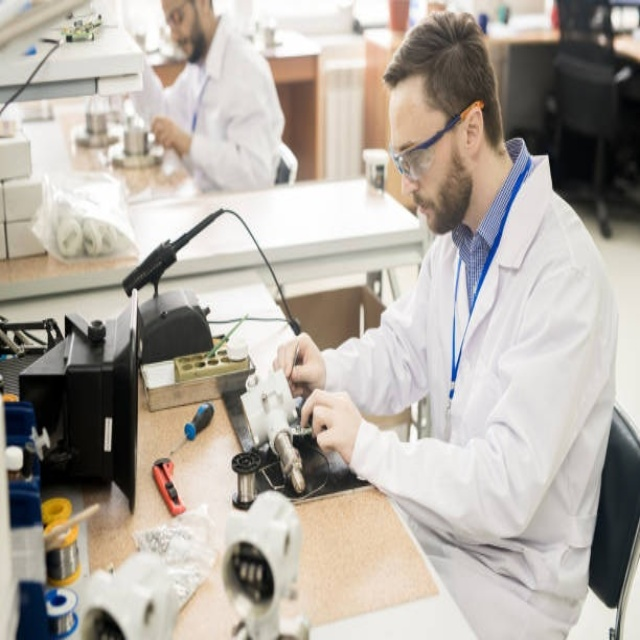Gafas: (390, 100, 481, 182), (165, 0, 194, 28)
Guantes: (298, 380, 364, 466), (273, 333, 325, 392)
Sin_guantes: (150, 111, 192, 158)
Sin_mascara: (409, 191, 448, 238)
